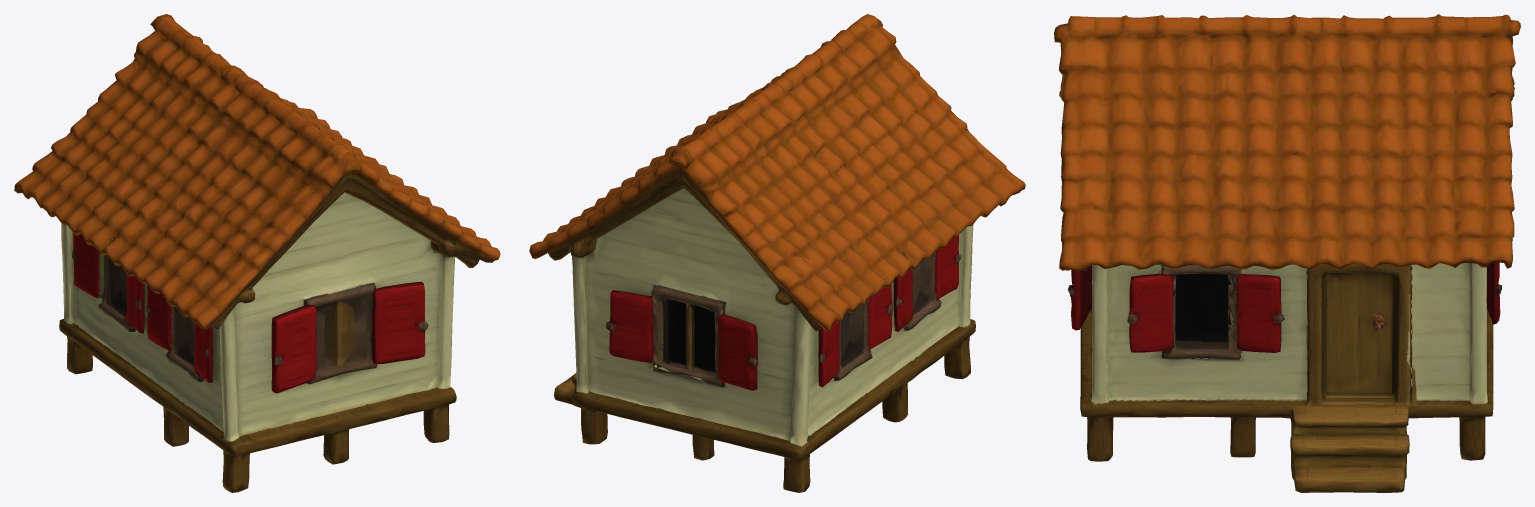
File: stilt_terra.glb
The picture shows the model from 3 angles, left to right: view 1: azimuth 30°, elevation 25°; view 2: azimuth 150°, elevation 25°; view 3: azimuth 270°, elevation 25°; orthographic projection. The views are drawn at different scales.
Bounding box in the file's own units: 0.9277 × 0.893 × 0.9846.
Materials: 1 (1 with a texture image).
